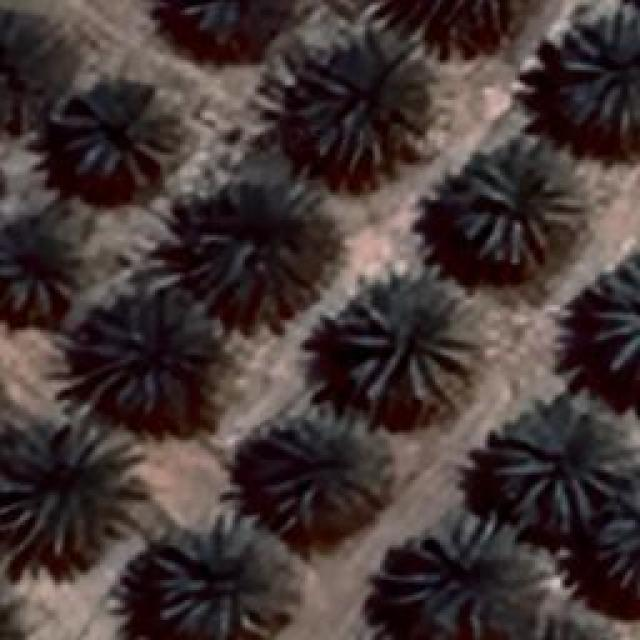PalmTree: (0, 415, 135, 574), (292, 30, 432, 168), (392, 510, 548, 632), (490, 392, 628, 526), (155, 512, 300, 638), (250, 405, 390, 530), (75, 292, 220, 410), (347, 275, 475, 403), (202, 188, 328, 312), (458, 140, 580, 265), (58, 80, 180, 182), (562, 7, 636, 135), (377, 0, 531, 59), (0, 212, 80, 322), (577, 475, 640, 610), (152, 0, 280, 65), (0, 20, 75, 110), (587, 245, 635, 378), (521, 610, 619, 640), (0, 590, 31, 640)
